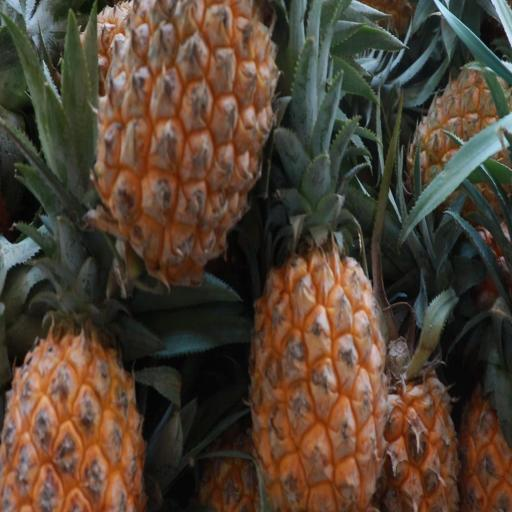Pineapple - v8 v1: (91, 0, 280, 293), (244, 151, 392, 512), (0, 302, 149, 511), (369, 313, 466, 512), (453, 187, 512, 512)
